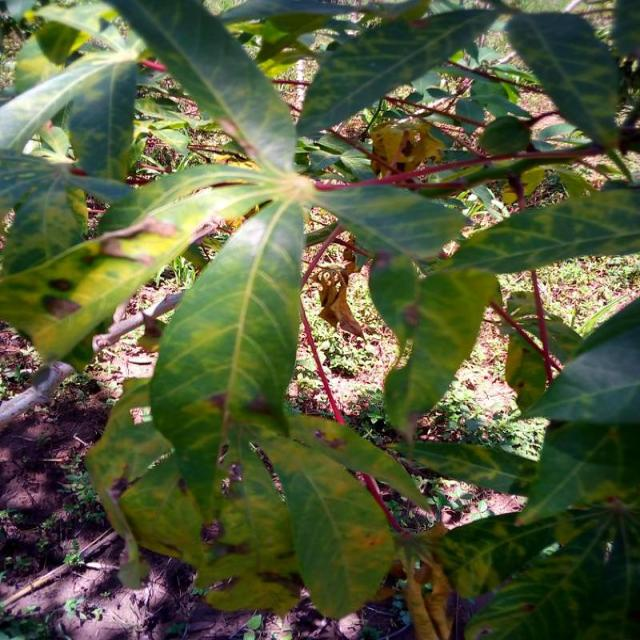cassava leaf: (1, 0, 638, 627), (147, 196, 305, 523)
